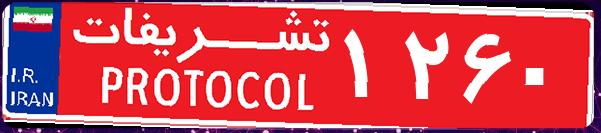0: (520, 20, 580, 115)
1: (340, 20, 400, 115)
2: (400, 20, 460, 115)
6: (460, 20, 520, 115)
تشریفات: (60, 8, 340, 125)
